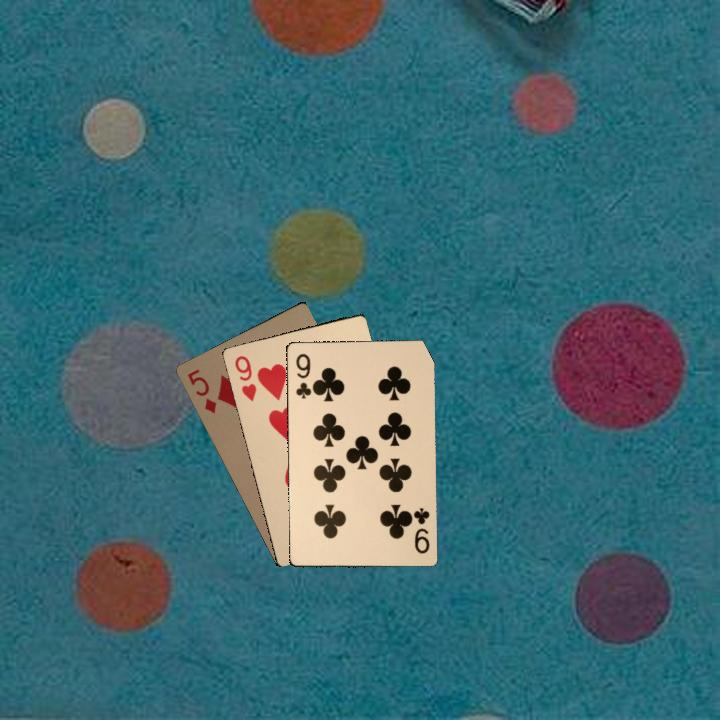5d: (183, 365, 219, 416)
9c: (292, 349, 316, 401), (410, 504, 432, 556)
9h: (231, 351, 259, 404)
